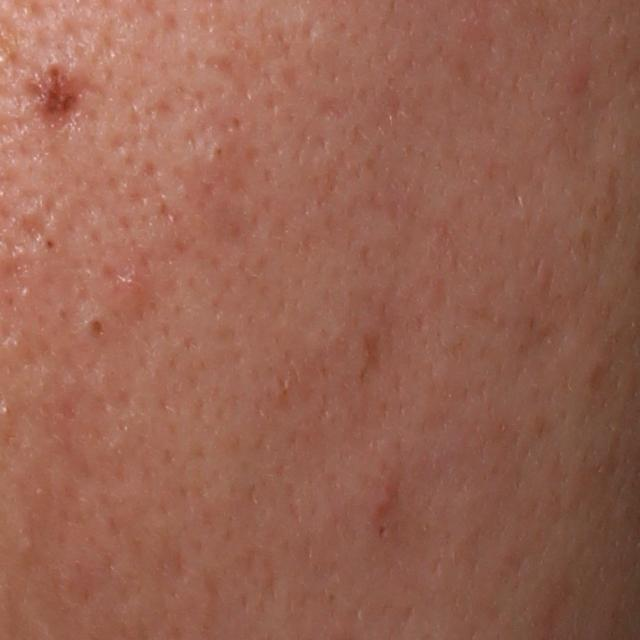atrophic_scar: (199, 27, 318, 111), (20, 209, 45, 249)
comedo: (88, 316, 107, 342), (43, 234, 59, 255)
nevus: (17, 53, 102, 132)
papule: (365, 455, 414, 526), (558, 62, 593, 97)
